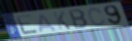9: (104, 4, 124, 26)
A: (39, 13, 58, 34)
B: (68, 9, 90, 30)
C: (88, 7, 107, 28)
E: (14, 14, 40, 36)
K: (52, 11, 73, 31)
